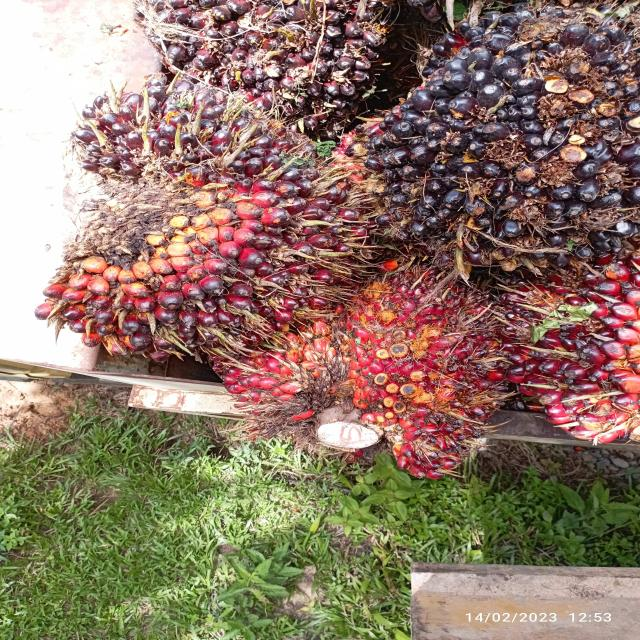fraksi 00: (352, 11, 640, 259)
fraksi 1: (29, 66, 379, 372), (42, 60, 327, 204)
fraksi 3: (242, 248, 529, 494)
